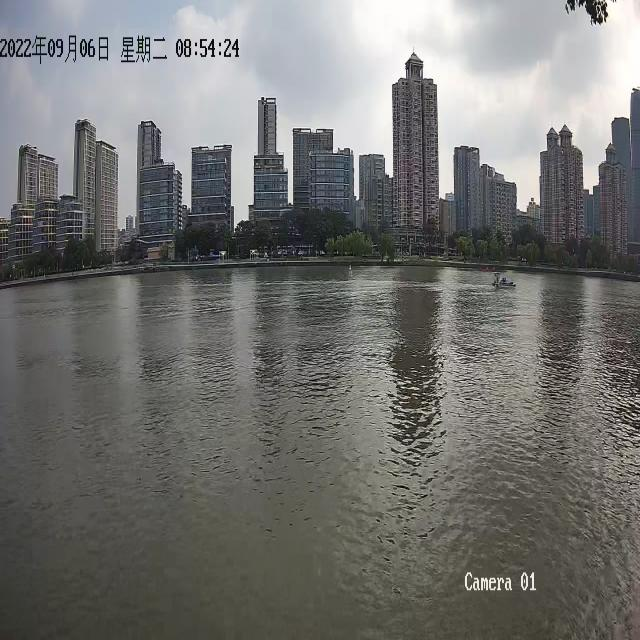ship: (492, 270, 516, 287)
